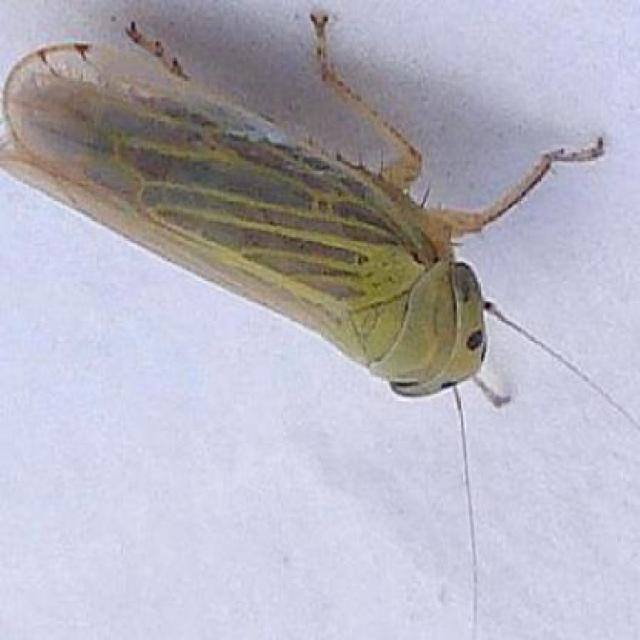green-leafhopper: (2, 15, 612, 413)
